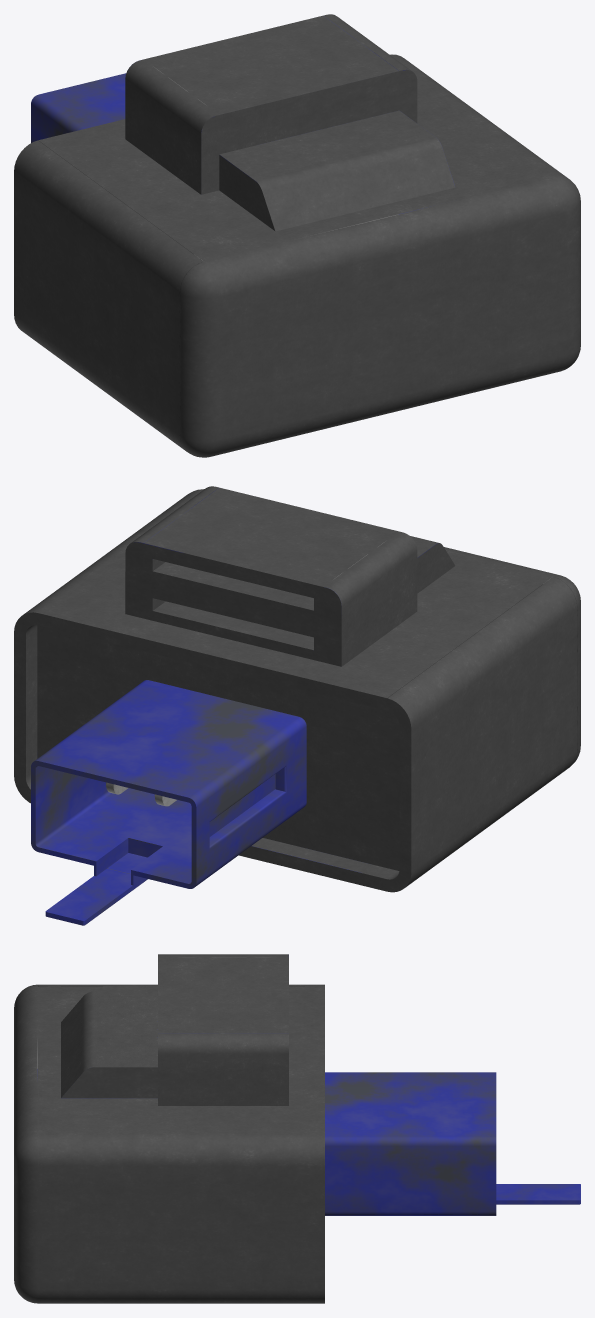
Rendered from relay.glb.
3 views of the same model, one above another, from view 1: azimuth 30°, elevation 25°; view 2: azimuth 150°, elevation 25°; view 3: azimuth 270°, elevation 25° (orthographic). The views are drawn at different scales.
Visible parts, largest first — view 1: relay; view 2: relay; view 3: relay.
Boxes of the visible parts, left/top/right/bottom form: relay: left=14, top=14, right=580, bottom=457; relay: left=14, top=486, right=580, bottom=925; relay: left=14, top=954, right=580, bottom=1303.
Bounding box in the file's own units: 0.3829 × 0.2475 × 0.5473.
1 material, 1 textured.
